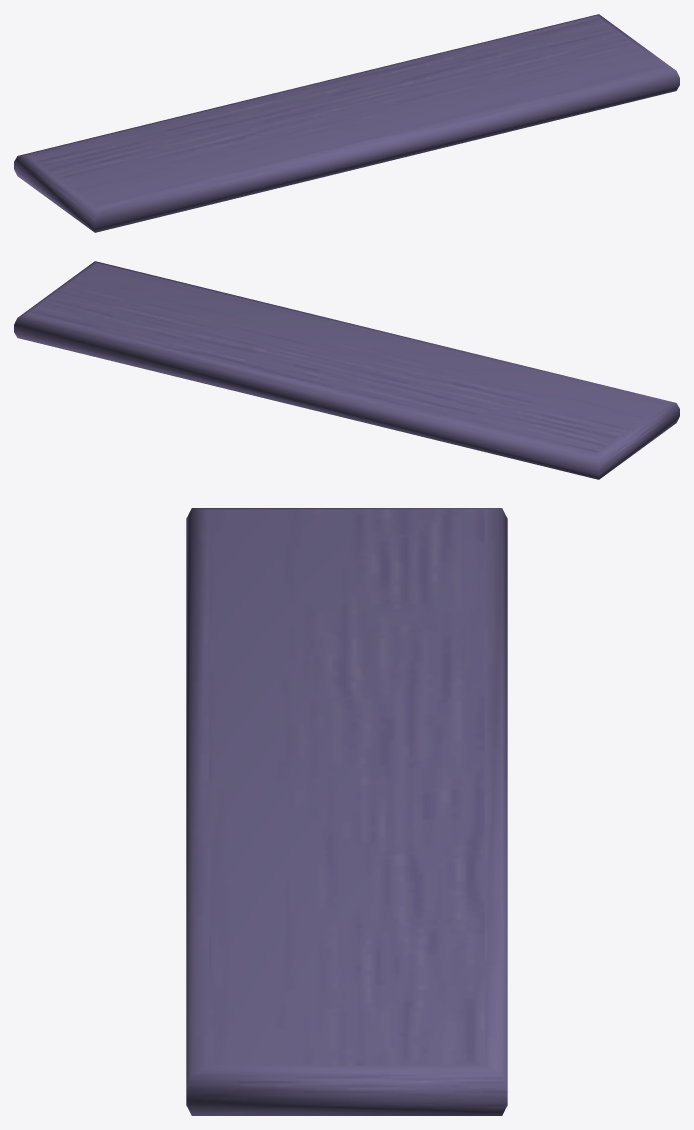
Rendered from Straight_Shelving_06.FBX.
The picture shows the model from 3 angles, top to bottom: view 1: azimuth 30°, elevation 25°; view 2: azimuth 150°, elevation 25°; view 3: azimuth 270°, elevation 25°; orthographic projection. The views are drawn at different scales.
Visible parts, largest first — view 1: Shelf_Straight; view 2: Shelf_Straight; view 3: Shelf_Straight.
Boxes of the visible parts, x1,y1,x2,y2 form: Shelf_Straight: (14, 14, 679, 232); Shelf_Straight: (14, 261, 679, 479); Shelf_Straight: (186, 508, 507, 1115).
Bounding box in the file's own units: 200 × 8 × 47.55.
